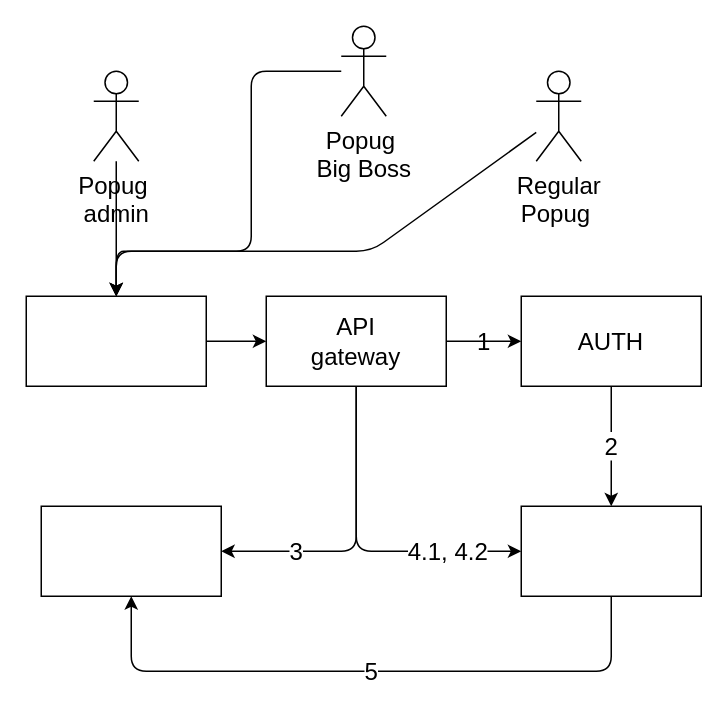
Some shapes in this 728 by 711 pixel diagram are drawn without their labels. Here are the shapes that lost their labels. From the top down, the centre of each, then its label:
point (115, 340): UI
point (130, 550): Accounting
point (610, 550): Tasks
